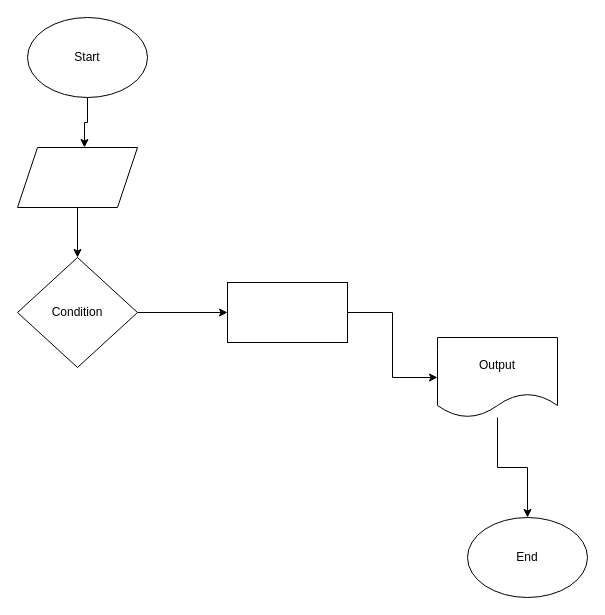
Image size: 605x615. Some labels were removed from this diagram. The shapes that lost their labels are listed below. From the top down, each one's box as (x1, y1, x2, y2) in pixels, then its label:
(16, 146, 138, 208): Input
(226, 282, 348, 342): Process
